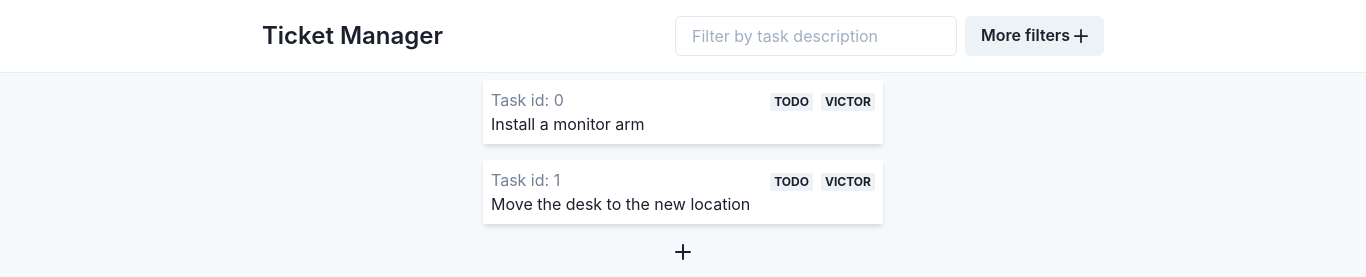
Test: nrwl ticket managing app › sets a ticket to done
expect the number of elements with test id "card" is 2: met, box [483,80,883,144]; [483,160,883,224]
Click the 1st button with test id "complete-button".
click(792, 102)  # box [770,93,813,111]
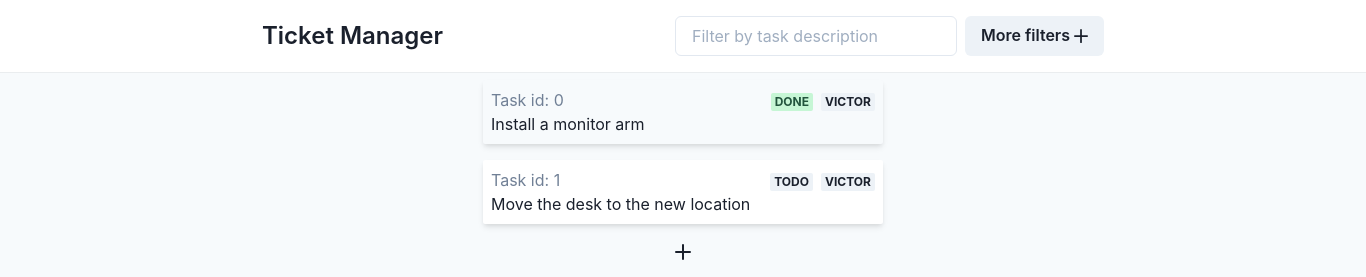
expect the button with test id "complete-button" reads "Done": met, box [771,93,813,111]
